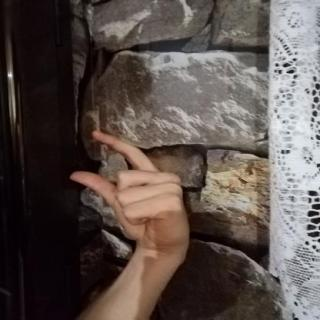DELL: (56, 124, 202, 260)
